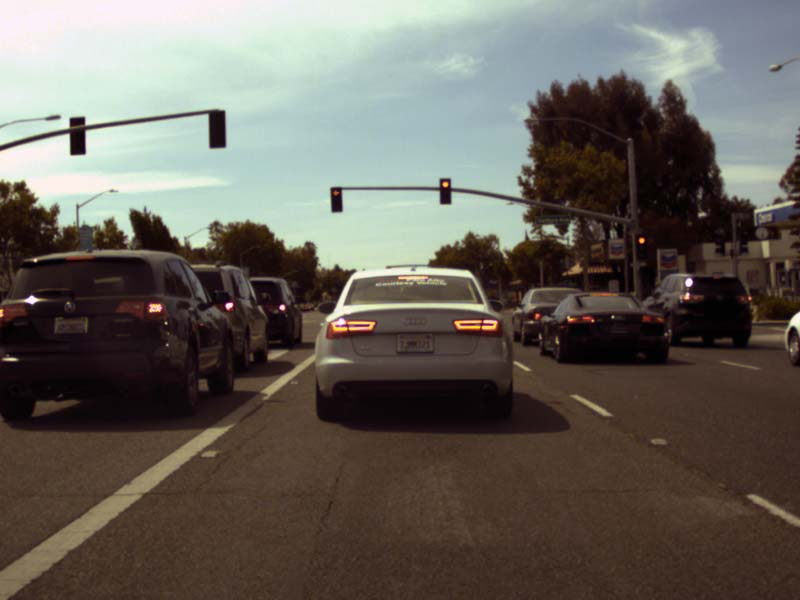Red: (635, 234, 647, 261), (439, 178, 450, 204), (331, 187, 341, 212)
